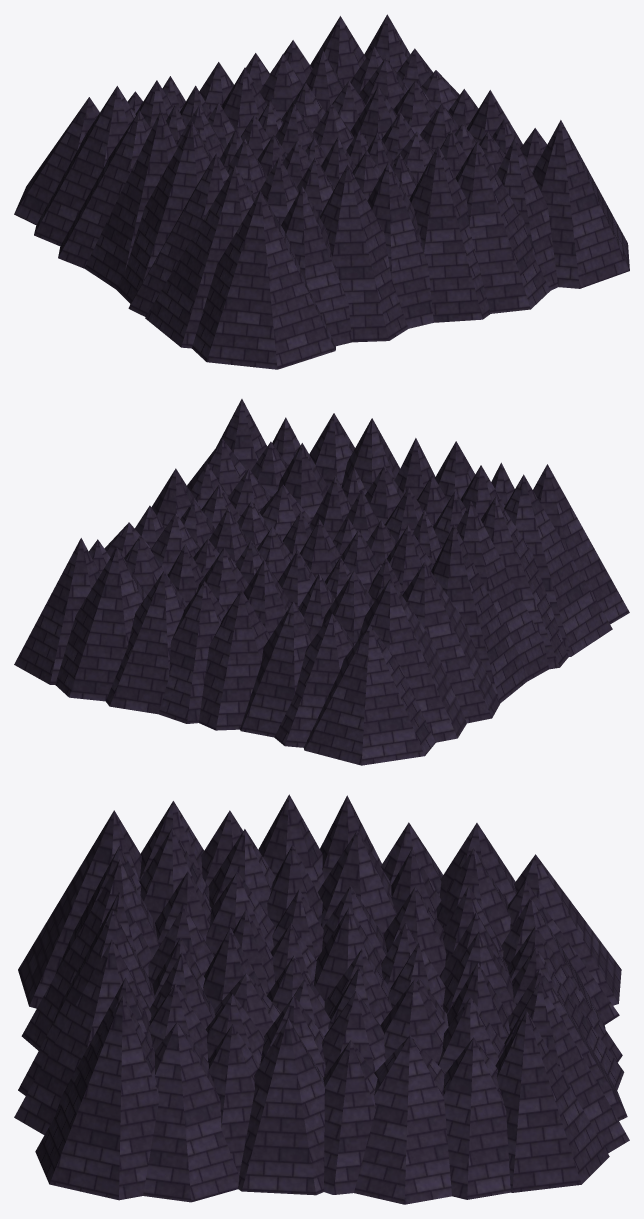
The model's file is chunk_2_24.glb.
3 views of the same model, one above another, from view 1: azimuth 30°, elevation 25°; view 2: azimuth 150°, elevation 25°; view 3: azimuth 270°, elevation 25° (orthographic). The views are drawn at different scales.
Visible parts, largest first — view 1: chunk_2_24; view 2: chunk_2_24; view 3: chunk_2_24.
Boxes of the visible parts, box(x1,y1,x2,y2) form: chunk_2_24: box(14, 14, 629, 369); chunk_2_24: box(14, 399, 629, 765); chunk_2_24: box(14, 794, 629, 1204).
Bounding box in the file's own units: 21.32 × 7.2 × 20.98.
Materials: 3 (3 with a texture image).
